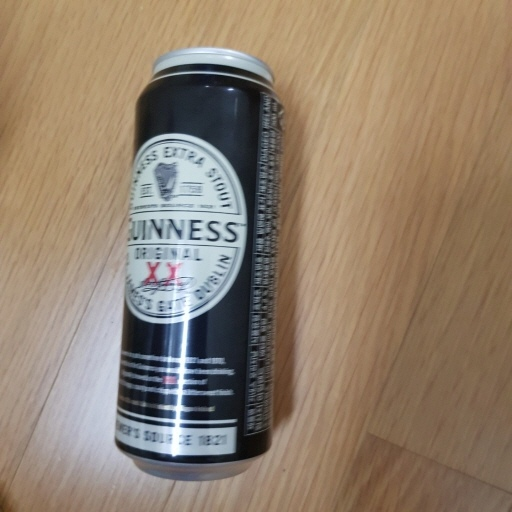Metal_0: (107, 46, 286, 484)
